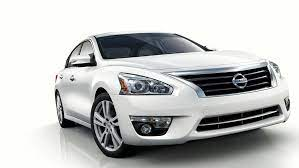Nissan: (52, 31, 292, 154)
